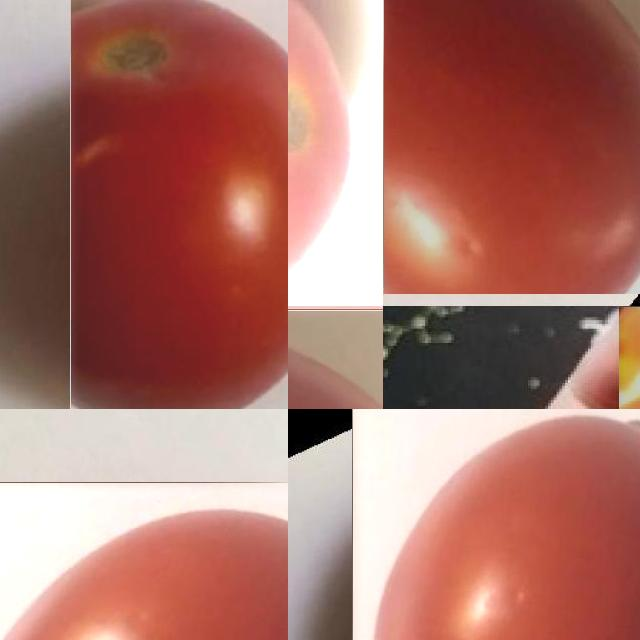0: (352, 409, 640, 640)
Fresh Tomato: (70, 0, 288, 409), (383, 0, 640, 294), (0, 482, 288, 640), (288, 0, 383, 306)
